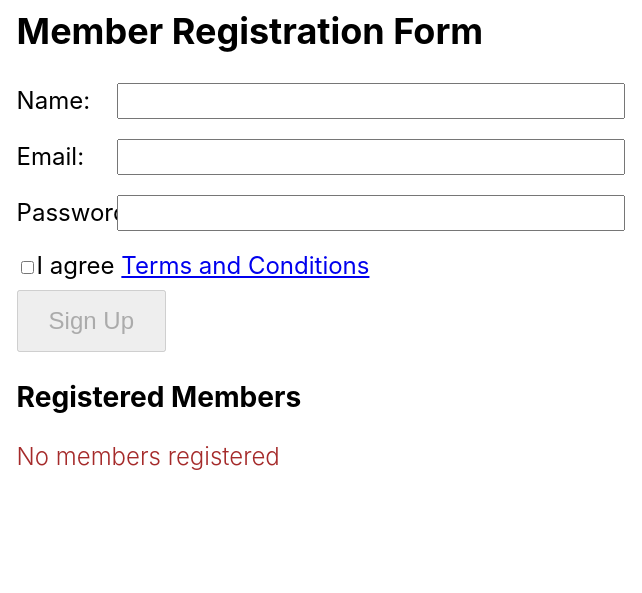
Test: Member Registration Form Test › shows an error message and disables the button when checkbox is checked and unchecked, respectively.
Check the checkbox named "terms". click: (28, 268)
box: [21, 261, 34, 274]
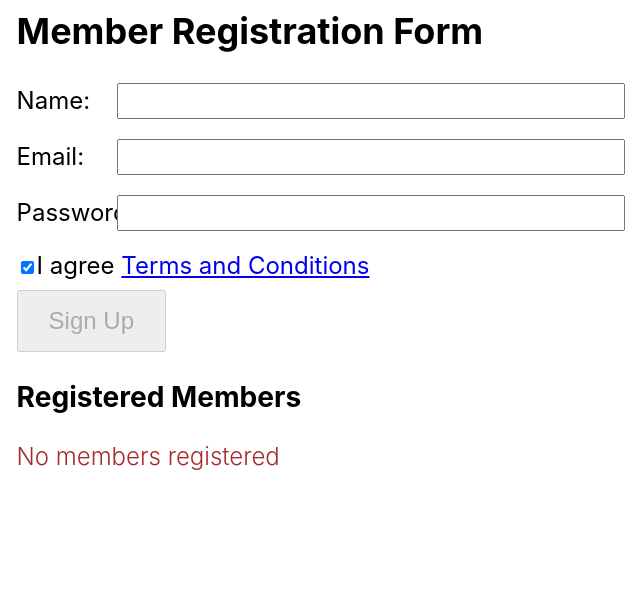
Expected: the checkbox named "terms" is checked
Uncheck the checkbox named "terms". click: (28, 268)
box: [21, 261, 34, 274]
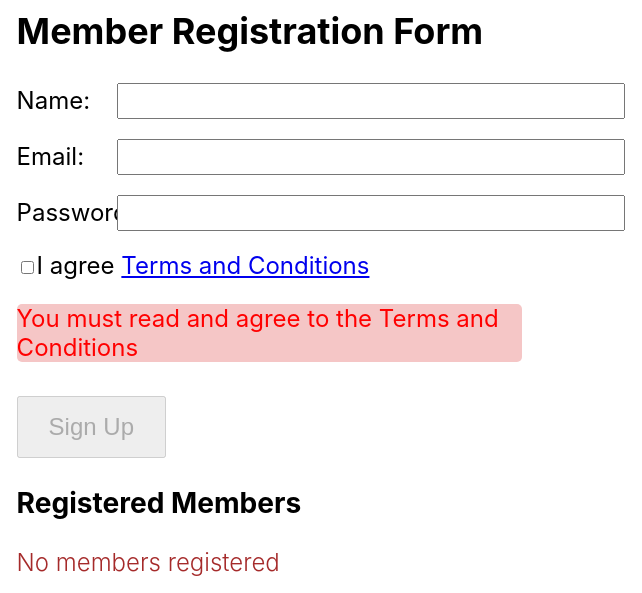
Expected: the element named "terms" is not checked
Expected: the text with test id "error" reads "You must read and agree to the Terms and Conditions", [17, 304, 522, 362]
